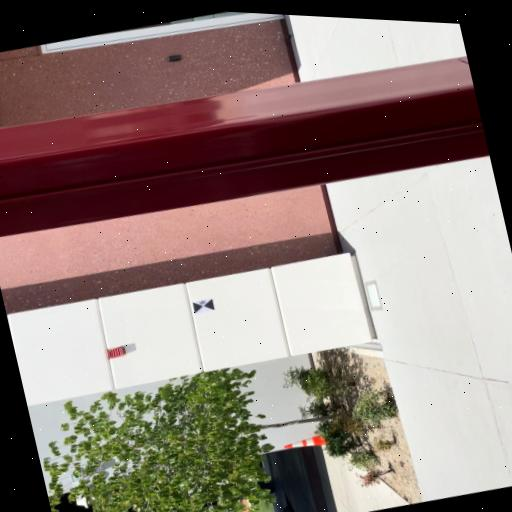target6: (192, 298, 215, 314)
